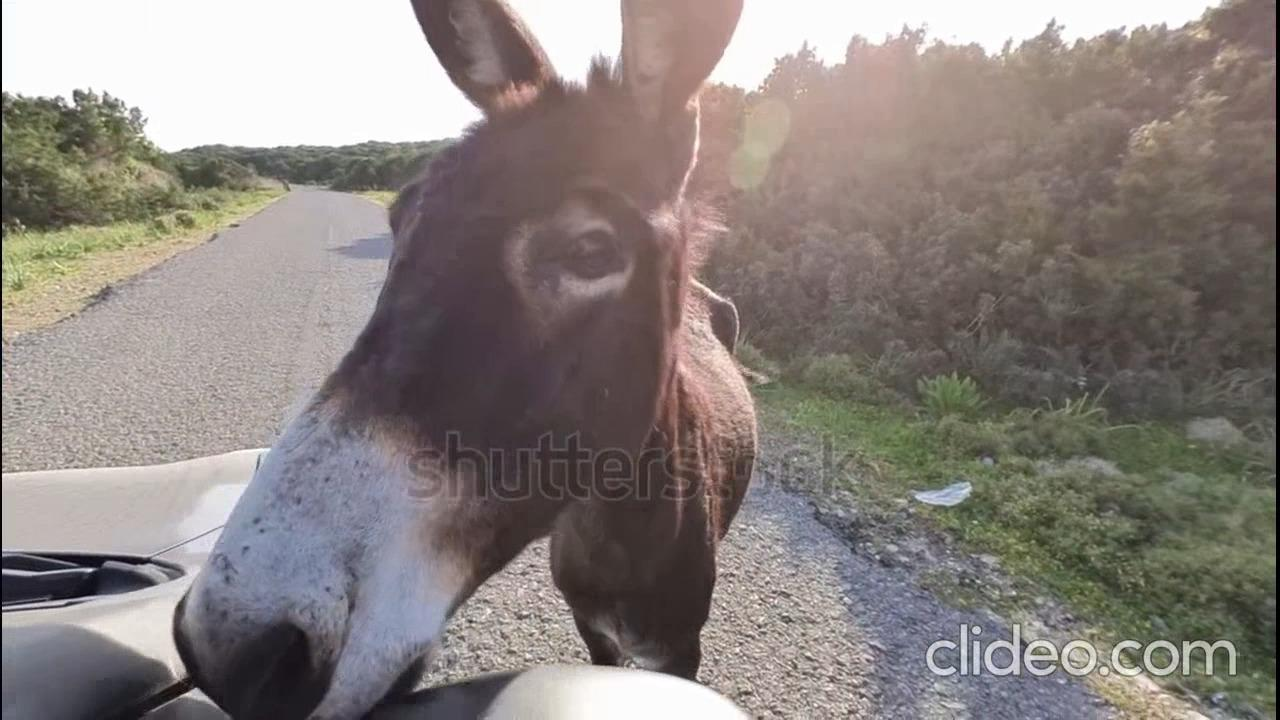Donkey: (176, 4, 769, 720)
